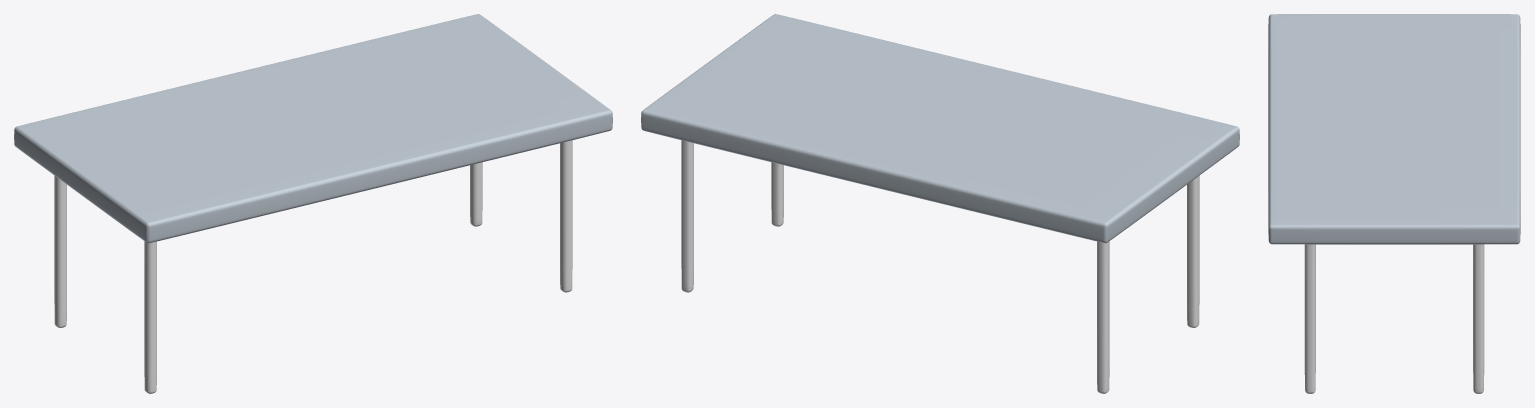
3 renders of one model, left to right at view 1: azimuth 30°, elevation 25°; view 2: azimuth 150°, elevation 25°; view 3: azimuth 270°, elevation 25°, orthographic. The views are drawn at different scales.
Parts seen in each view (by area): view 1: TableTop, Leg1, Leg2, Leg3, Leg4; view 2: TableTop, Leg3, Leg4, Leg1, Leg2; view 3: TableTop, Leg2, Leg4.
Part boxes in pixels (x1=…): TableTop: x1=14, y1=14, x2=612, y2=243; Leg1: x1=144, y1=241, x2=156, y2=393; Leg2: x1=560, y1=140, x2=572, y2=292; Leg3: x1=54, y1=175, x2=66, y2=327; Leg4: x1=470, y1=162, x2=482, y2=226; TableTop: x1=641, y1=14, x2=1239, y2=243; Leg3: x1=1097, y1=241, x2=1109, y2=393; Leg4: x1=681, y1=140, x2=693, y2=292; Leg1: x1=1187, y1=175, x2=1199, y2=327; Leg2: x1=771, y1=162, x2=783, y2=226; TableTop: x1=1268, y1=14, x2=1520, y2=244; Leg2: x1=1304, y1=244, x2=1315, y2=393; Leg4: x1=1473, y1=244, x2=1484, y2=393.
Size of the model in its own units: 0.8999 by 0.3524 by 0.4499.
